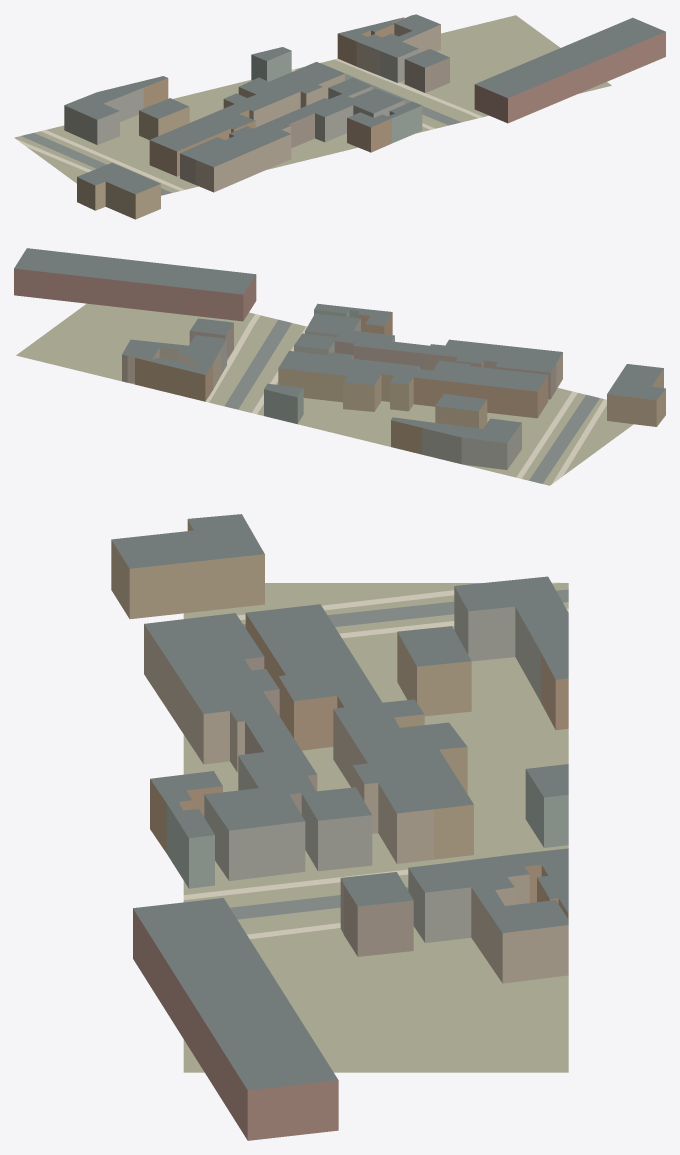
File: sector--2_-8.glb
3 views of the same model, one above another, from view 1: azimuth 30°, elevation 25°; view 2: azimuth 150°, elevation 25°; view 3: azimuth 270°, elevation 25° (orthographic). The views are drawn at different scales.
Parts seen in each view (by area): view 1: -2:-8-facade, -2:-8-roof, -2:-8-ground, -2:-8-paving, -2:-8-road; view 2: -2:-8-facade, -2:-8-roof, -2:-8-ground, -2:-8-road, -2:-8-paving; view 3: -2:-8-roof, -2:-8-facade, -2:-8-ground, -2:-8-road, -2:-8-paving.
Boxes of the visible parts, x1,y1,x2,y2 form: -2:-8-facade: (64, 17, 665, 219); -2:-8-roof: (64, 14, 665, 194); -2:-8-ground: (14, 15, 611, 192); -2:-8-paving: (16, 58, 482, 190); -2:-8-road: (21, 63, 460, 195); -2:-8-facade: (14, 268, 665, 469); -2:-8-roof: (14, 248, 665, 443); -2:-8-ground: (16, 303, 633, 485); -2:-8-road: (225, 319, 599, 483); -2:-8-paving: (205, 314, 606, 483); -2:-8-roof: (111, 514, 568, 1090); -2:-8-facade: (111, 519, 568, 1140); -2:-8-ground: (183, 583, 568, 1072); -2:-8-road: (230, 589, 568, 919); -2:-8-paving: (183, 582, 568, 939).
Bounding box in the file's own units: 235 × 9.6 × 78.93.
